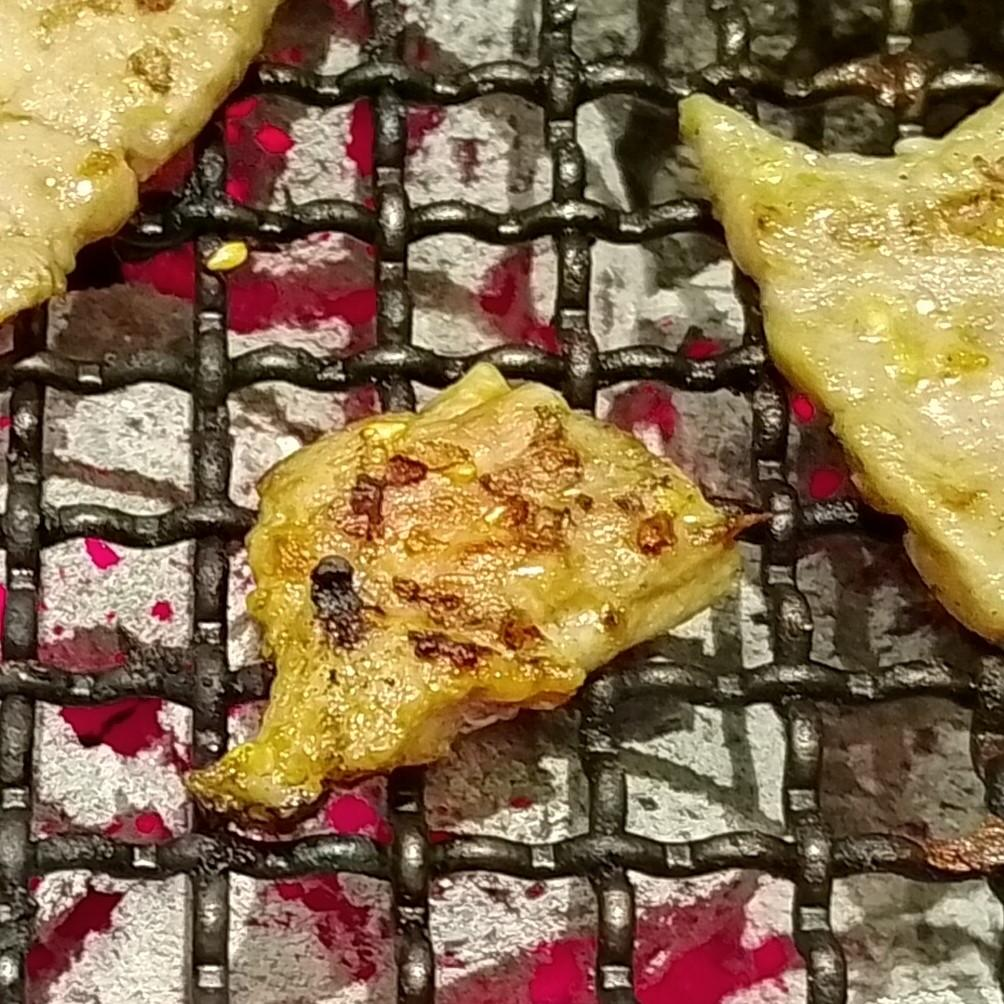Overcooked: (187, 364, 766, 822)
Well-Cooked: (679, 94, 1003, 647), (0, 0, 283, 322)
